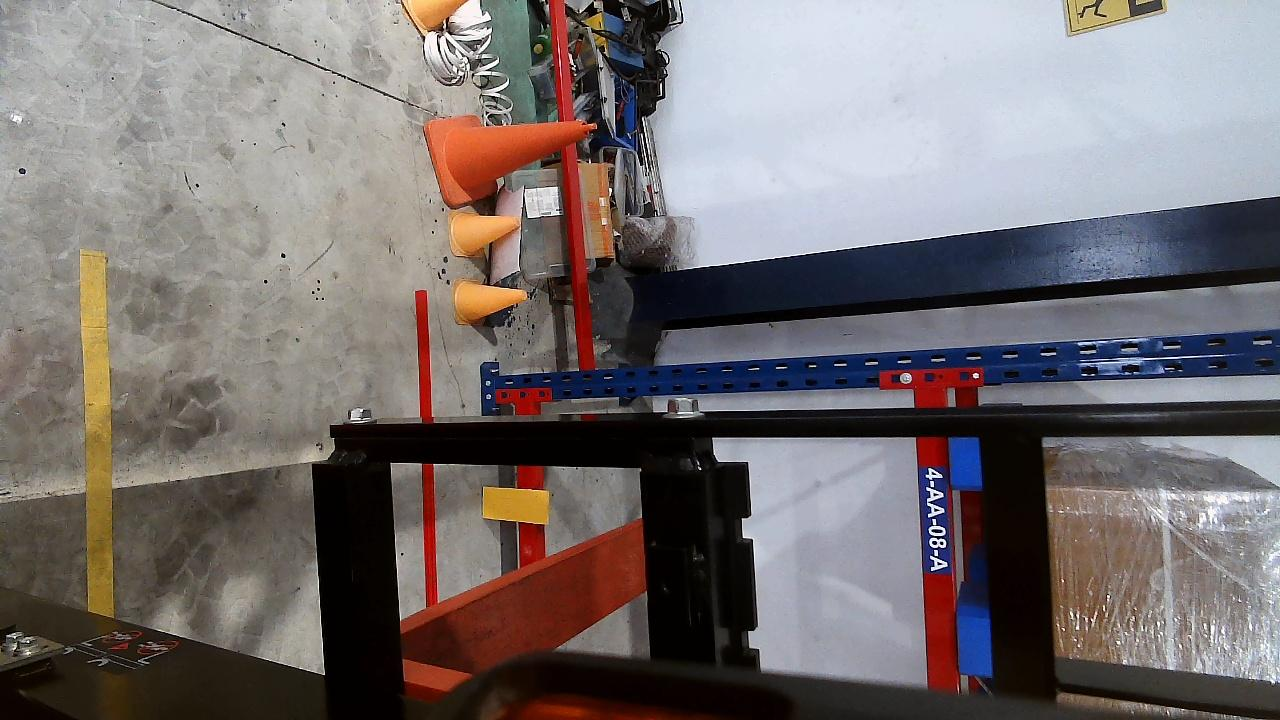h_rack: (911, 390, 950, 691)
orange_strip: (480, 488, 549, 524)
red_line: (412, 289, 443, 607)
yellow_line: (79, 248, 113, 615)
